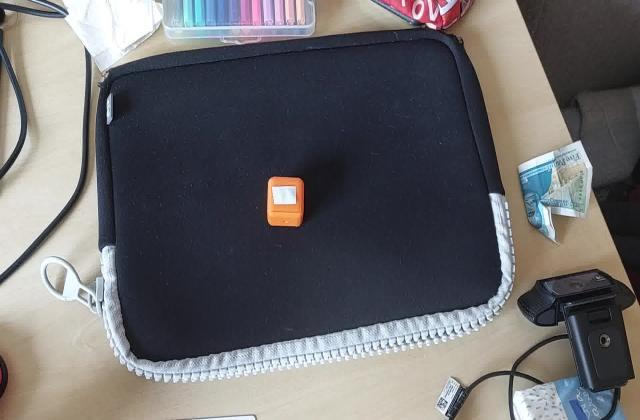sticker: (264, 175, 306, 228)
white: (269, 184, 299, 207)
